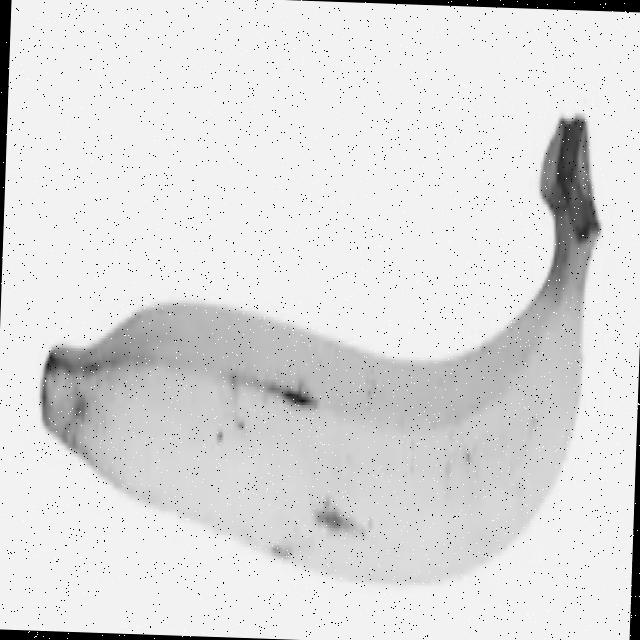Ripe: (29, 87, 602, 610)
